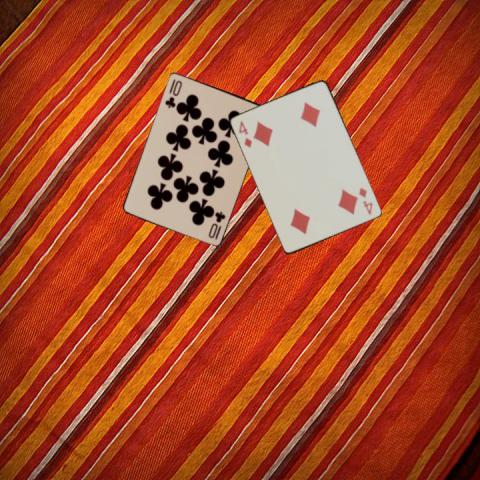10c: (205, 208, 227, 241), (162, 76, 183, 110)
4d: (356, 184, 374, 216), (236, 118, 253, 150)
